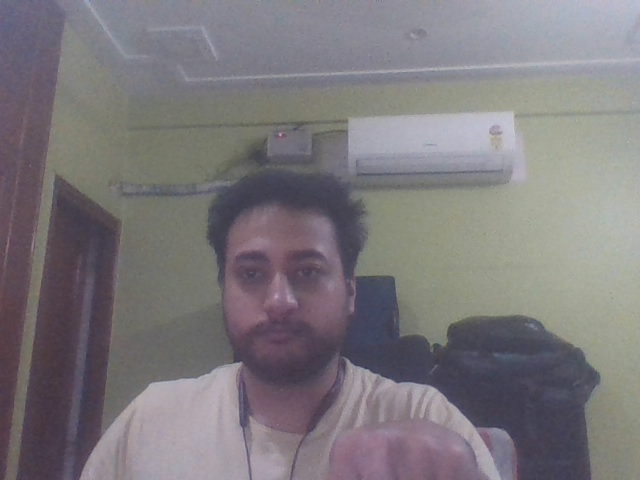Yes: (316, 406, 503, 480)
